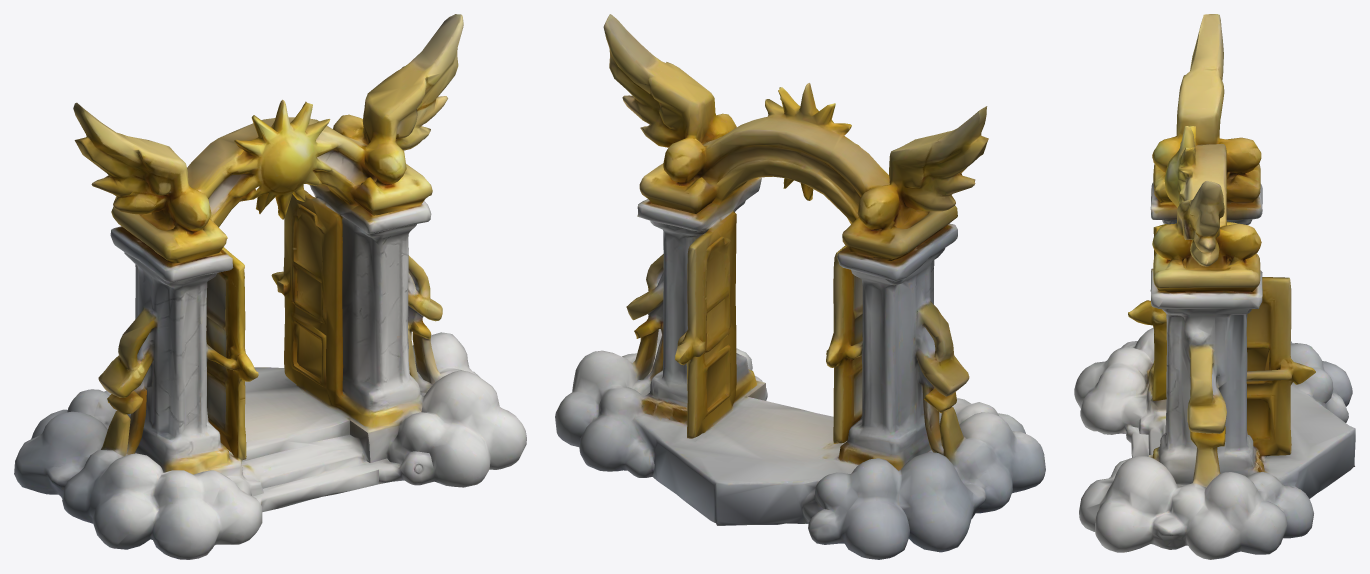
The model's file is cloudgate.glb.
3 renders of one model, left to right at view 1: azimuth 30°, elevation 25°; view 2: azimuth 150°, elevation 25°; view 3: azimuth 270°, elevation 25°, orthographic. The views are drawn at different scales.
Parts seen in each view (by area): view 1: tripo_node_b2f74d58; view 2: tripo_node_b2f74d58; view 3: tripo_node_b2f74d58.
Boxes of the visible parts, x1,y1,x2,y2 form: tripo_node_b2f74d58: [14, 14, 526, 559]; tripo_node_b2f74d58: [555, 14, 1045, 559]; tripo_node_b2f74d58: [1074, 14, 1355, 559].
Bounding box in the file's own units: 99.68 × 90.98 × 62.18.
1 material, 1 textured.
